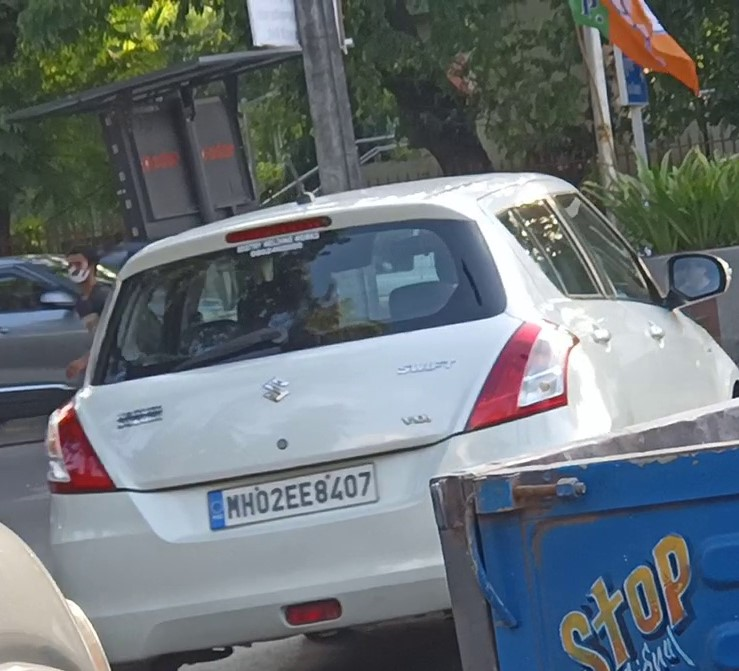MH02EE8407: (208, 463, 381, 530)
